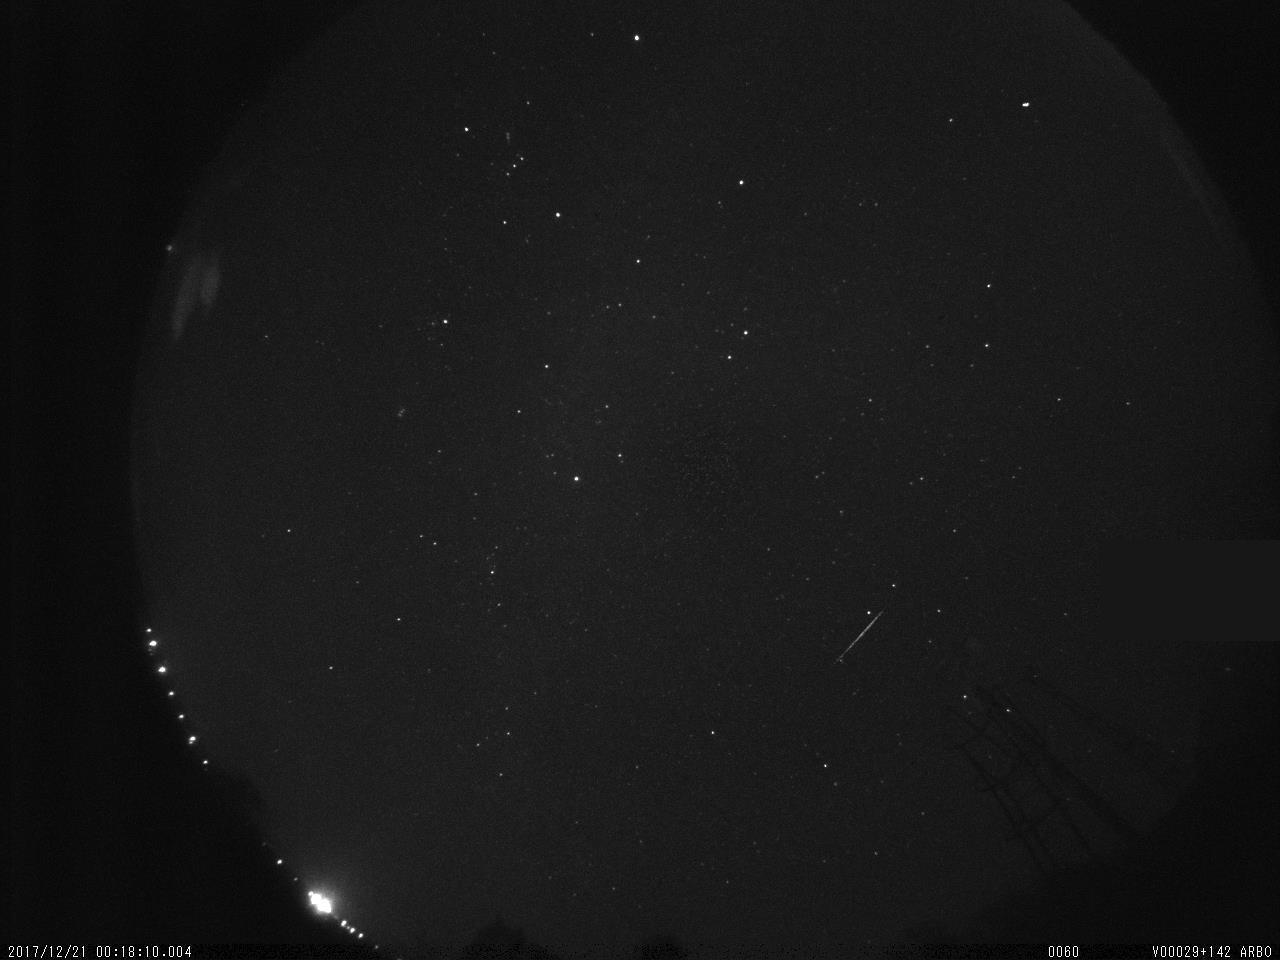Meteor: (833, 608, 887, 663)
